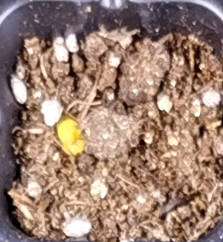pepper seed: (14, 41, 99, 195)
